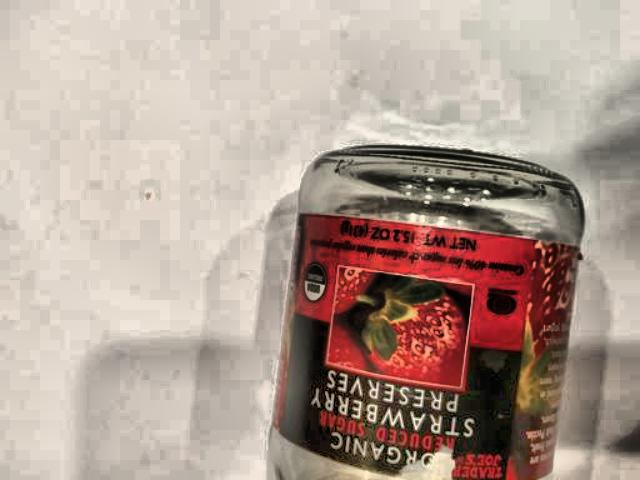Almennt: (248, 134, 600, 480)
